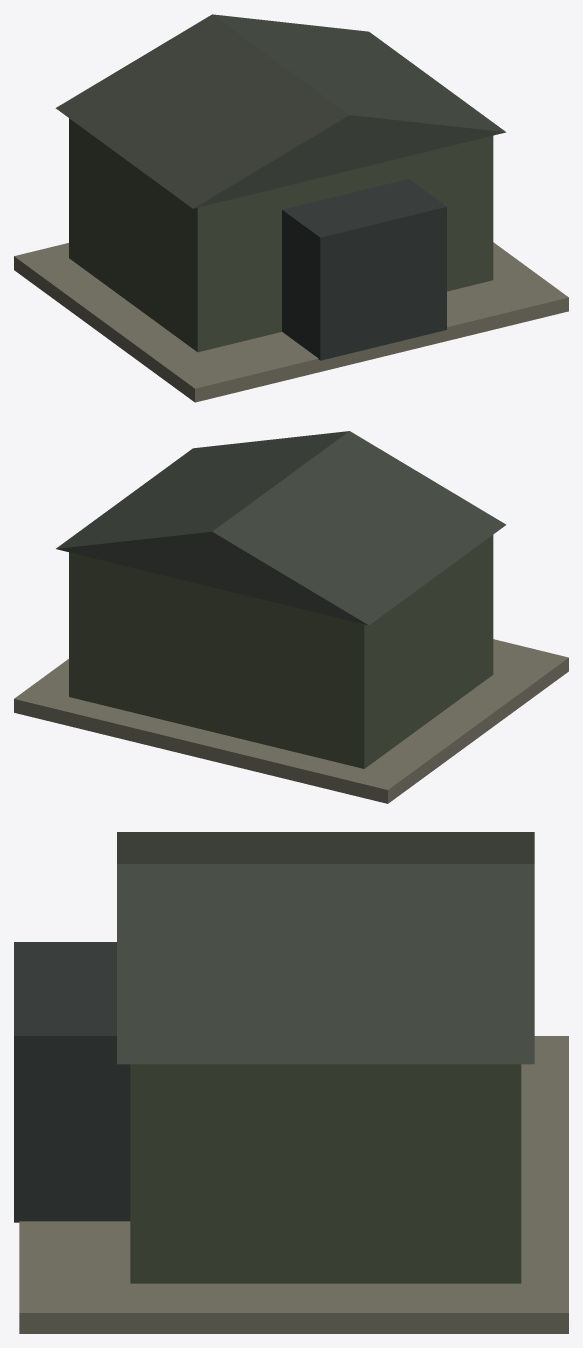
Rendered from Bastion_Barracks_LOD1.obj.
3 renders of one model, top to bottom at view 1: azimuth 30°, elevation 25°; view 2: azimuth 150°, elevation 25°; view 3: azimuth 270°, elevation 25°, orthographic. The views are drawn at different scales.
Visible parts, largest first — view 1: Bastion_Barracks_LOD1; view 2: Bastion_Barracks_LOD1; view 3: Bastion_Barracks_LOD1.
Boxes of the visible parts, x1=… form: Bastion_Barracks_LOD1: x1=14, y1=14, x2=568, y2=402; Bastion_Barracks_LOD1: x1=14, y1=431, x2=568, y2=803; Bastion_Barracks_LOD1: x1=14, y1=832, x2=568, y2=1333.
Bounding box in the file's own units: 6.2 × 3.46 × 5.25.
1 material, 1 textured.
